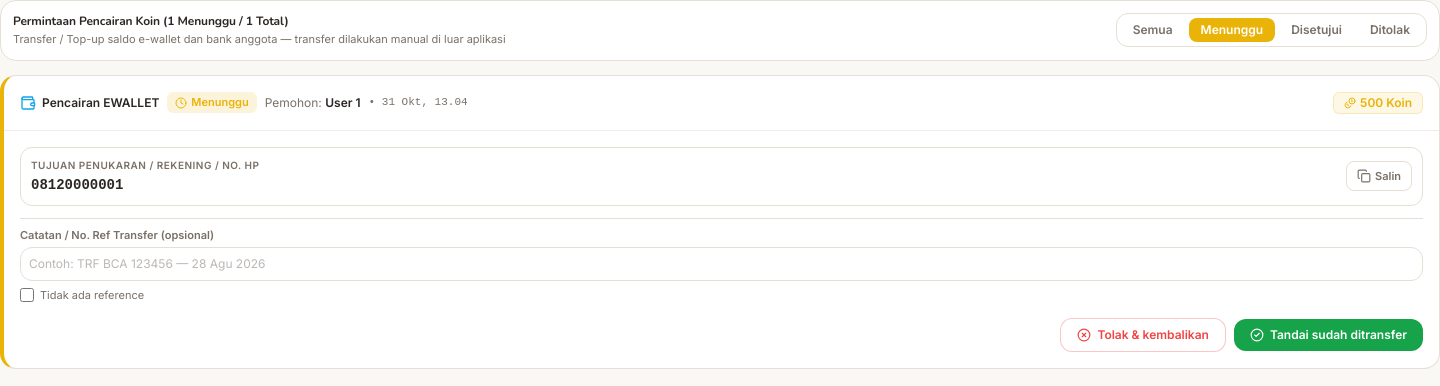
Test: ClaimsQueue terminology (display labels never change backend enum) › shows Ditolak filter while fetching with REJECTED enum
The width and height of the screenshot is (1440, 386).
Expected: the text "User 1" is shown, left=325, top=94, right=361, bottom=110
Click the button "Ditolak". click: (1390, 30)
box: left=1358, top=18, right=1422, bottom=42
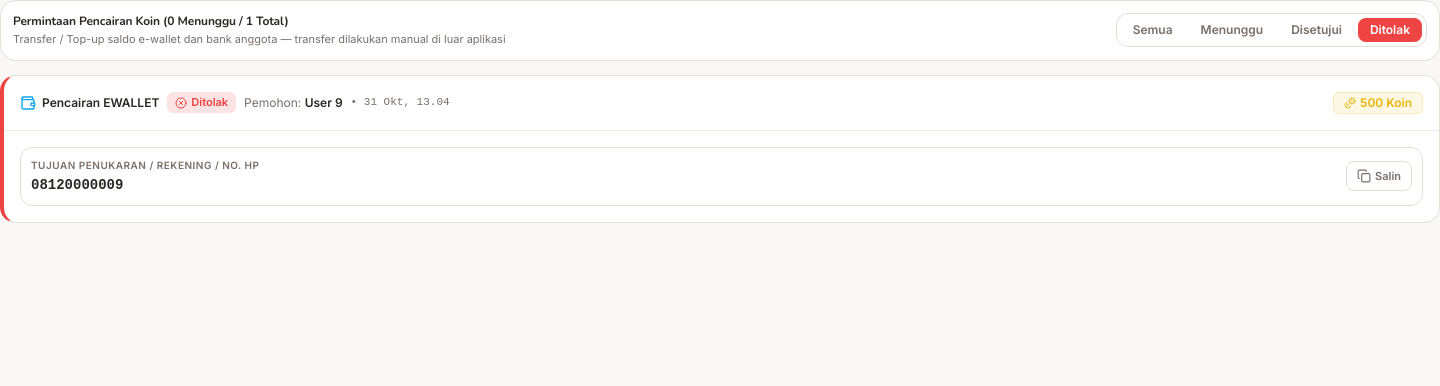
Expected: the number of buttons "Ditolak" is 2, left=1358, top=18, right=1422, bottom=42; left=191, top=94, right=228, bottom=111
Now the text "User 9" is shown, box left=305, top=94, right=343, bottom=110
